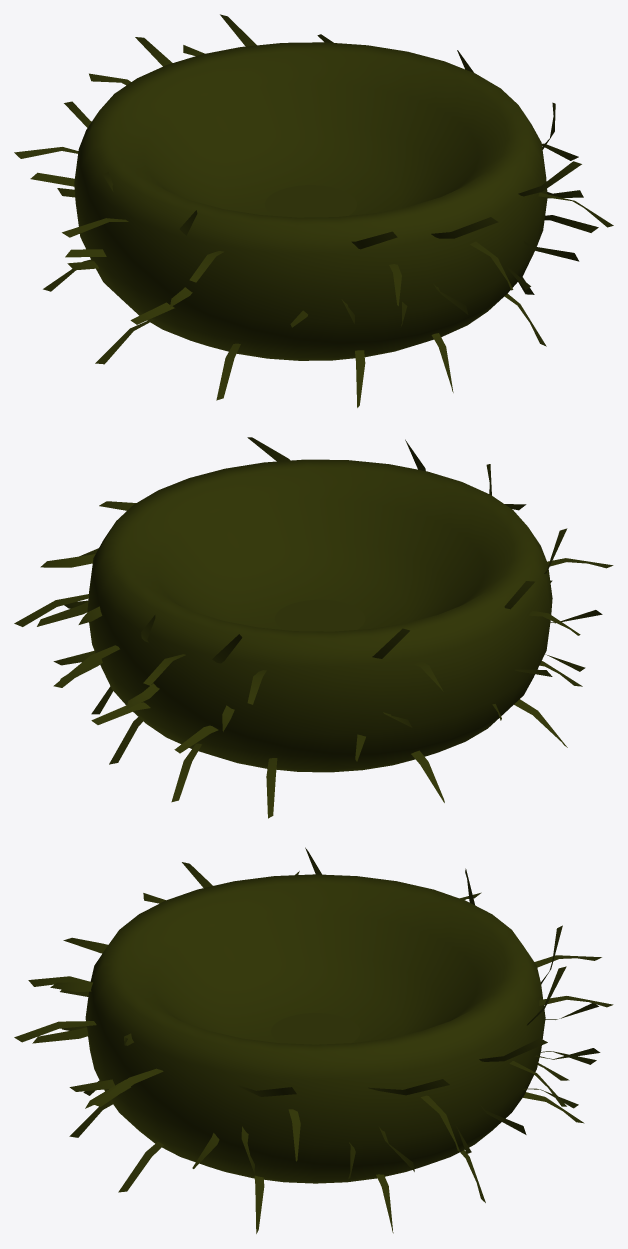
File: nestnestnestkk6666thenest.FBX
3 renders of one model, top to bottom at view 1: azimuth 30°, elevation 25°; view 2: azimuth 150°, elevation 25°; view 3: azimuth 270°, elevation 25°, orthographic. The views are drawn at different scales.
Parts seen in each view (by area): view 1: NEST; view 2: NEST, korsi053, korsi048; view 3: NEST, korsi033, korsi038.
Boxes of the visible parts, x1,y1,x2,y2 form: NEST: (74,42,547,360); NEST: (87,459,552,772); korsi053: (53,645,119,687); korsi048: (14,594,89,626); NEST: (85,874,545,1183); korsi033: (14,1021,96,1042); korsi038: (93,1068,163,1106).
Size of the model in its own units: 184 by 68.73 by 192.
